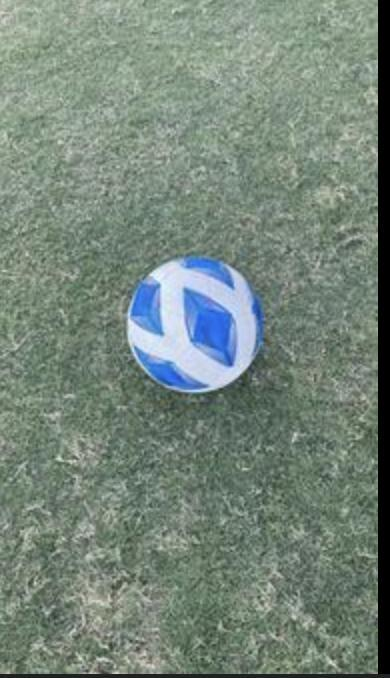Sports-Ball: (127, 257, 262, 393)
